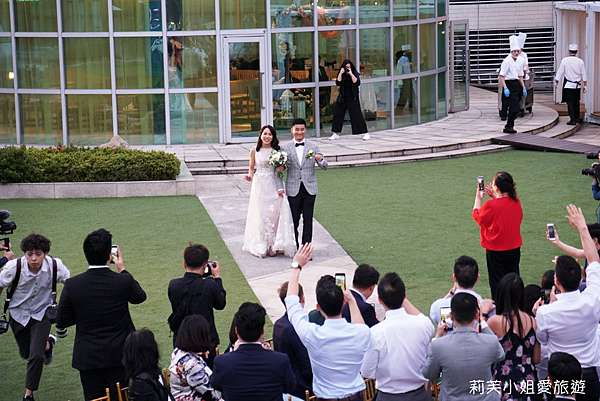people: (59, 231, 146, 391), (3, 239, 67, 401), (306, 286, 369, 401), (376, 275, 433, 401), (434, 299, 504, 401), (221, 306, 289, 401), (491, 278, 542, 401), (476, 174, 524, 302), (545, 264, 600, 373), (173, 245, 224, 346), (249, 124, 287, 256), (173, 319, 217, 401), (438, 258, 492, 323), (290, 118, 314, 256), (122, 329, 167, 401), (540, 350, 596, 401), (334, 62, 368, 140), (555, 45, 588, 123), (349, 263, 378, 323), (501, 46, 520, 134)
